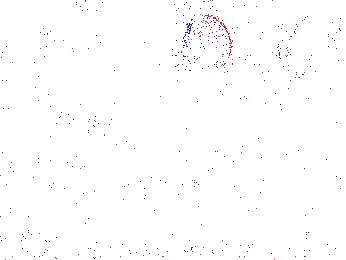moon jellyfish: (194, 51, 285, 120), (279, 1, 346, 82), (53, 87, 128, 157), (2, 35, 96, 79), (186, 14, 232, 76), (1, 1, 84, 32)
